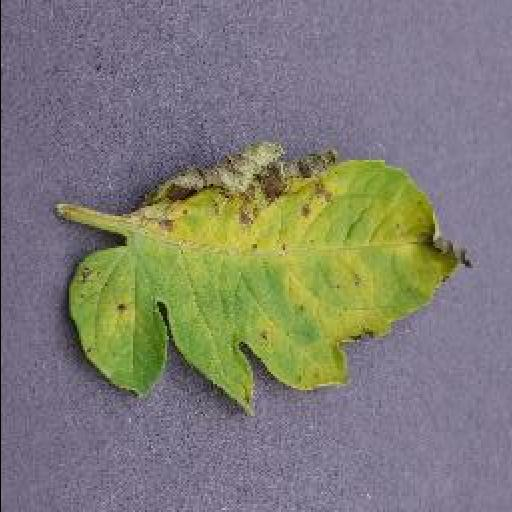disease_tomato: (70, 142, 474, 420)
